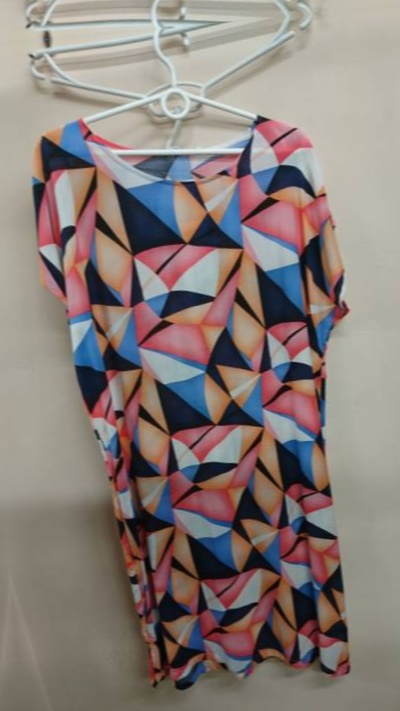Dress: (3, 66, 400, 711)
